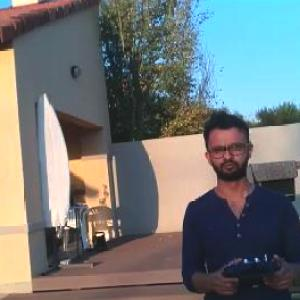follow: (174, 107, 300, 299)
